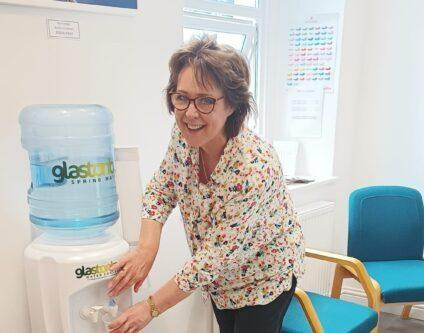Dispenser: (18, 103, 134, 332)
Kursi: (332, 184, 423, 332), (278, 246, 379, 332)
